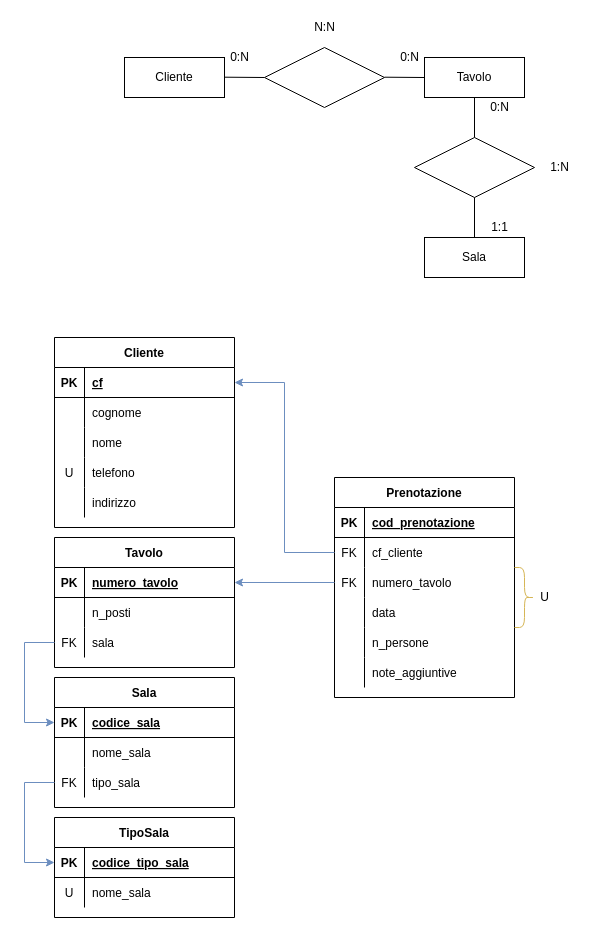
The diagram is 592 pixels wide and 935 high, and some of its shapes have lost their labels. Each missing label, with the centre of its shape:
"Prenota" goes at point 324,77.
"Ubicato" goes at point 474,167.
